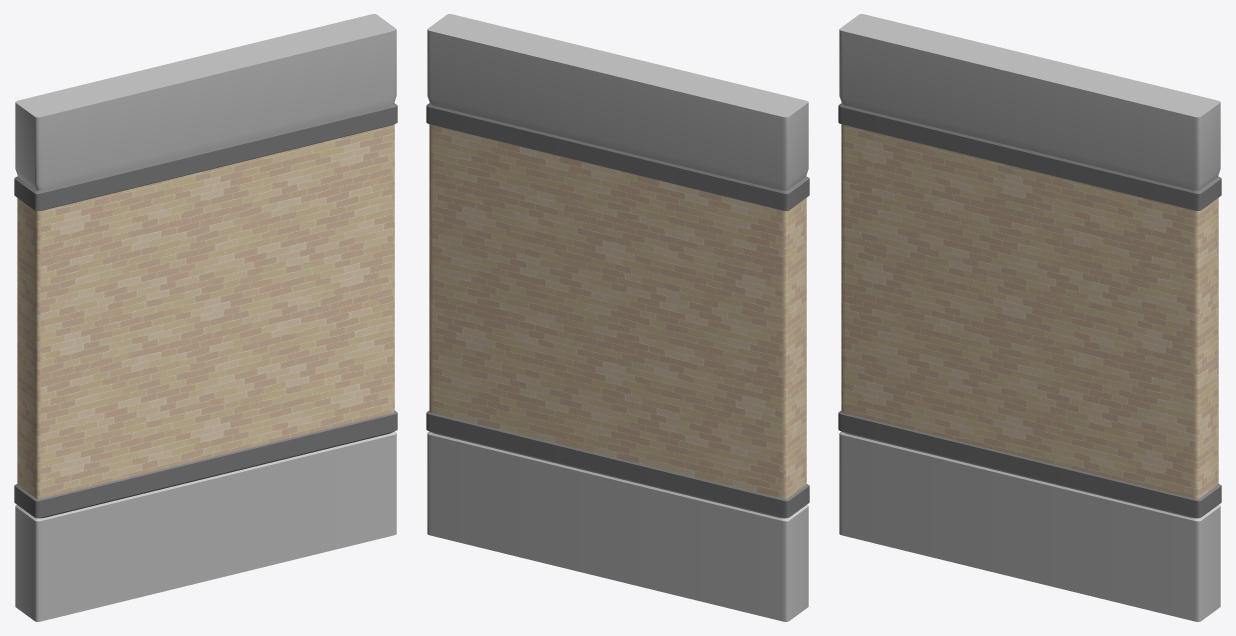
File: SM_wall_c_standard.fbx
The picture shows the model from 3 angles, left to right: view 1: azimuth 30°, elevation 25°; view 2: azimuth 150°, elevation 25°; view 3: azimuth 330°, elevation 25°; orthographic projection.
Parts seen in each view (by area): view 1: Box467; view 2: Box467; view 3: Box467.
Boxes of the visible parts, x1=… form: Box467: x1=14, y1=14, x2=397, y2=621; Box467: x1=426, y1=14, x2=809, y2=621; Box467: x1=838, y1=14, x2=1221, y2=621.
Bounding box in the file's own units: 154 × 204 × 16.93.
